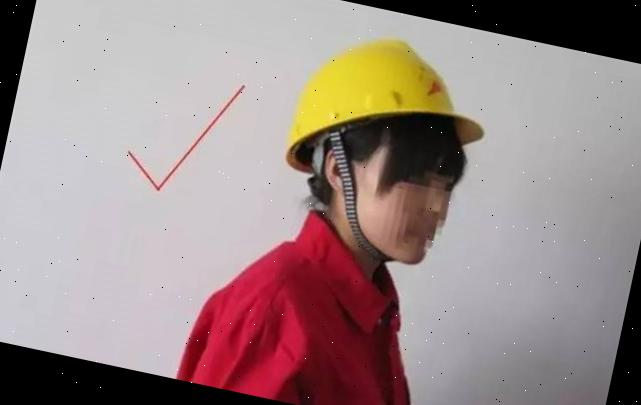helmet: (267, 16, 504, 206)
